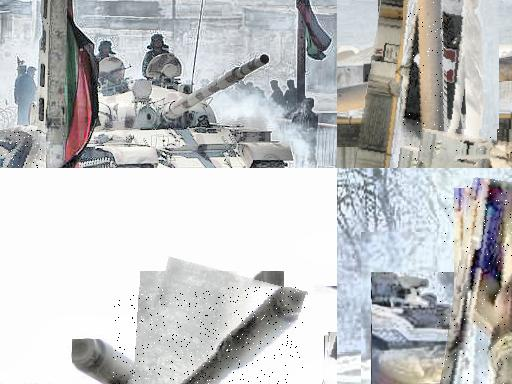tanks: (79, 54, 293, 169), (443, 179, 512, 384), (185, 289, 308, 384), (417, 1, 446, 169), (1, 132, 44, 169), (318, 286, 338, 292)
